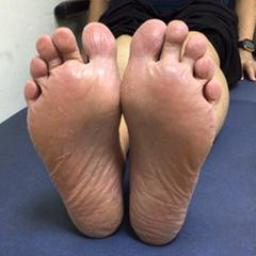Plantar View -Both Feet-: (17, 12, 232, 250)
